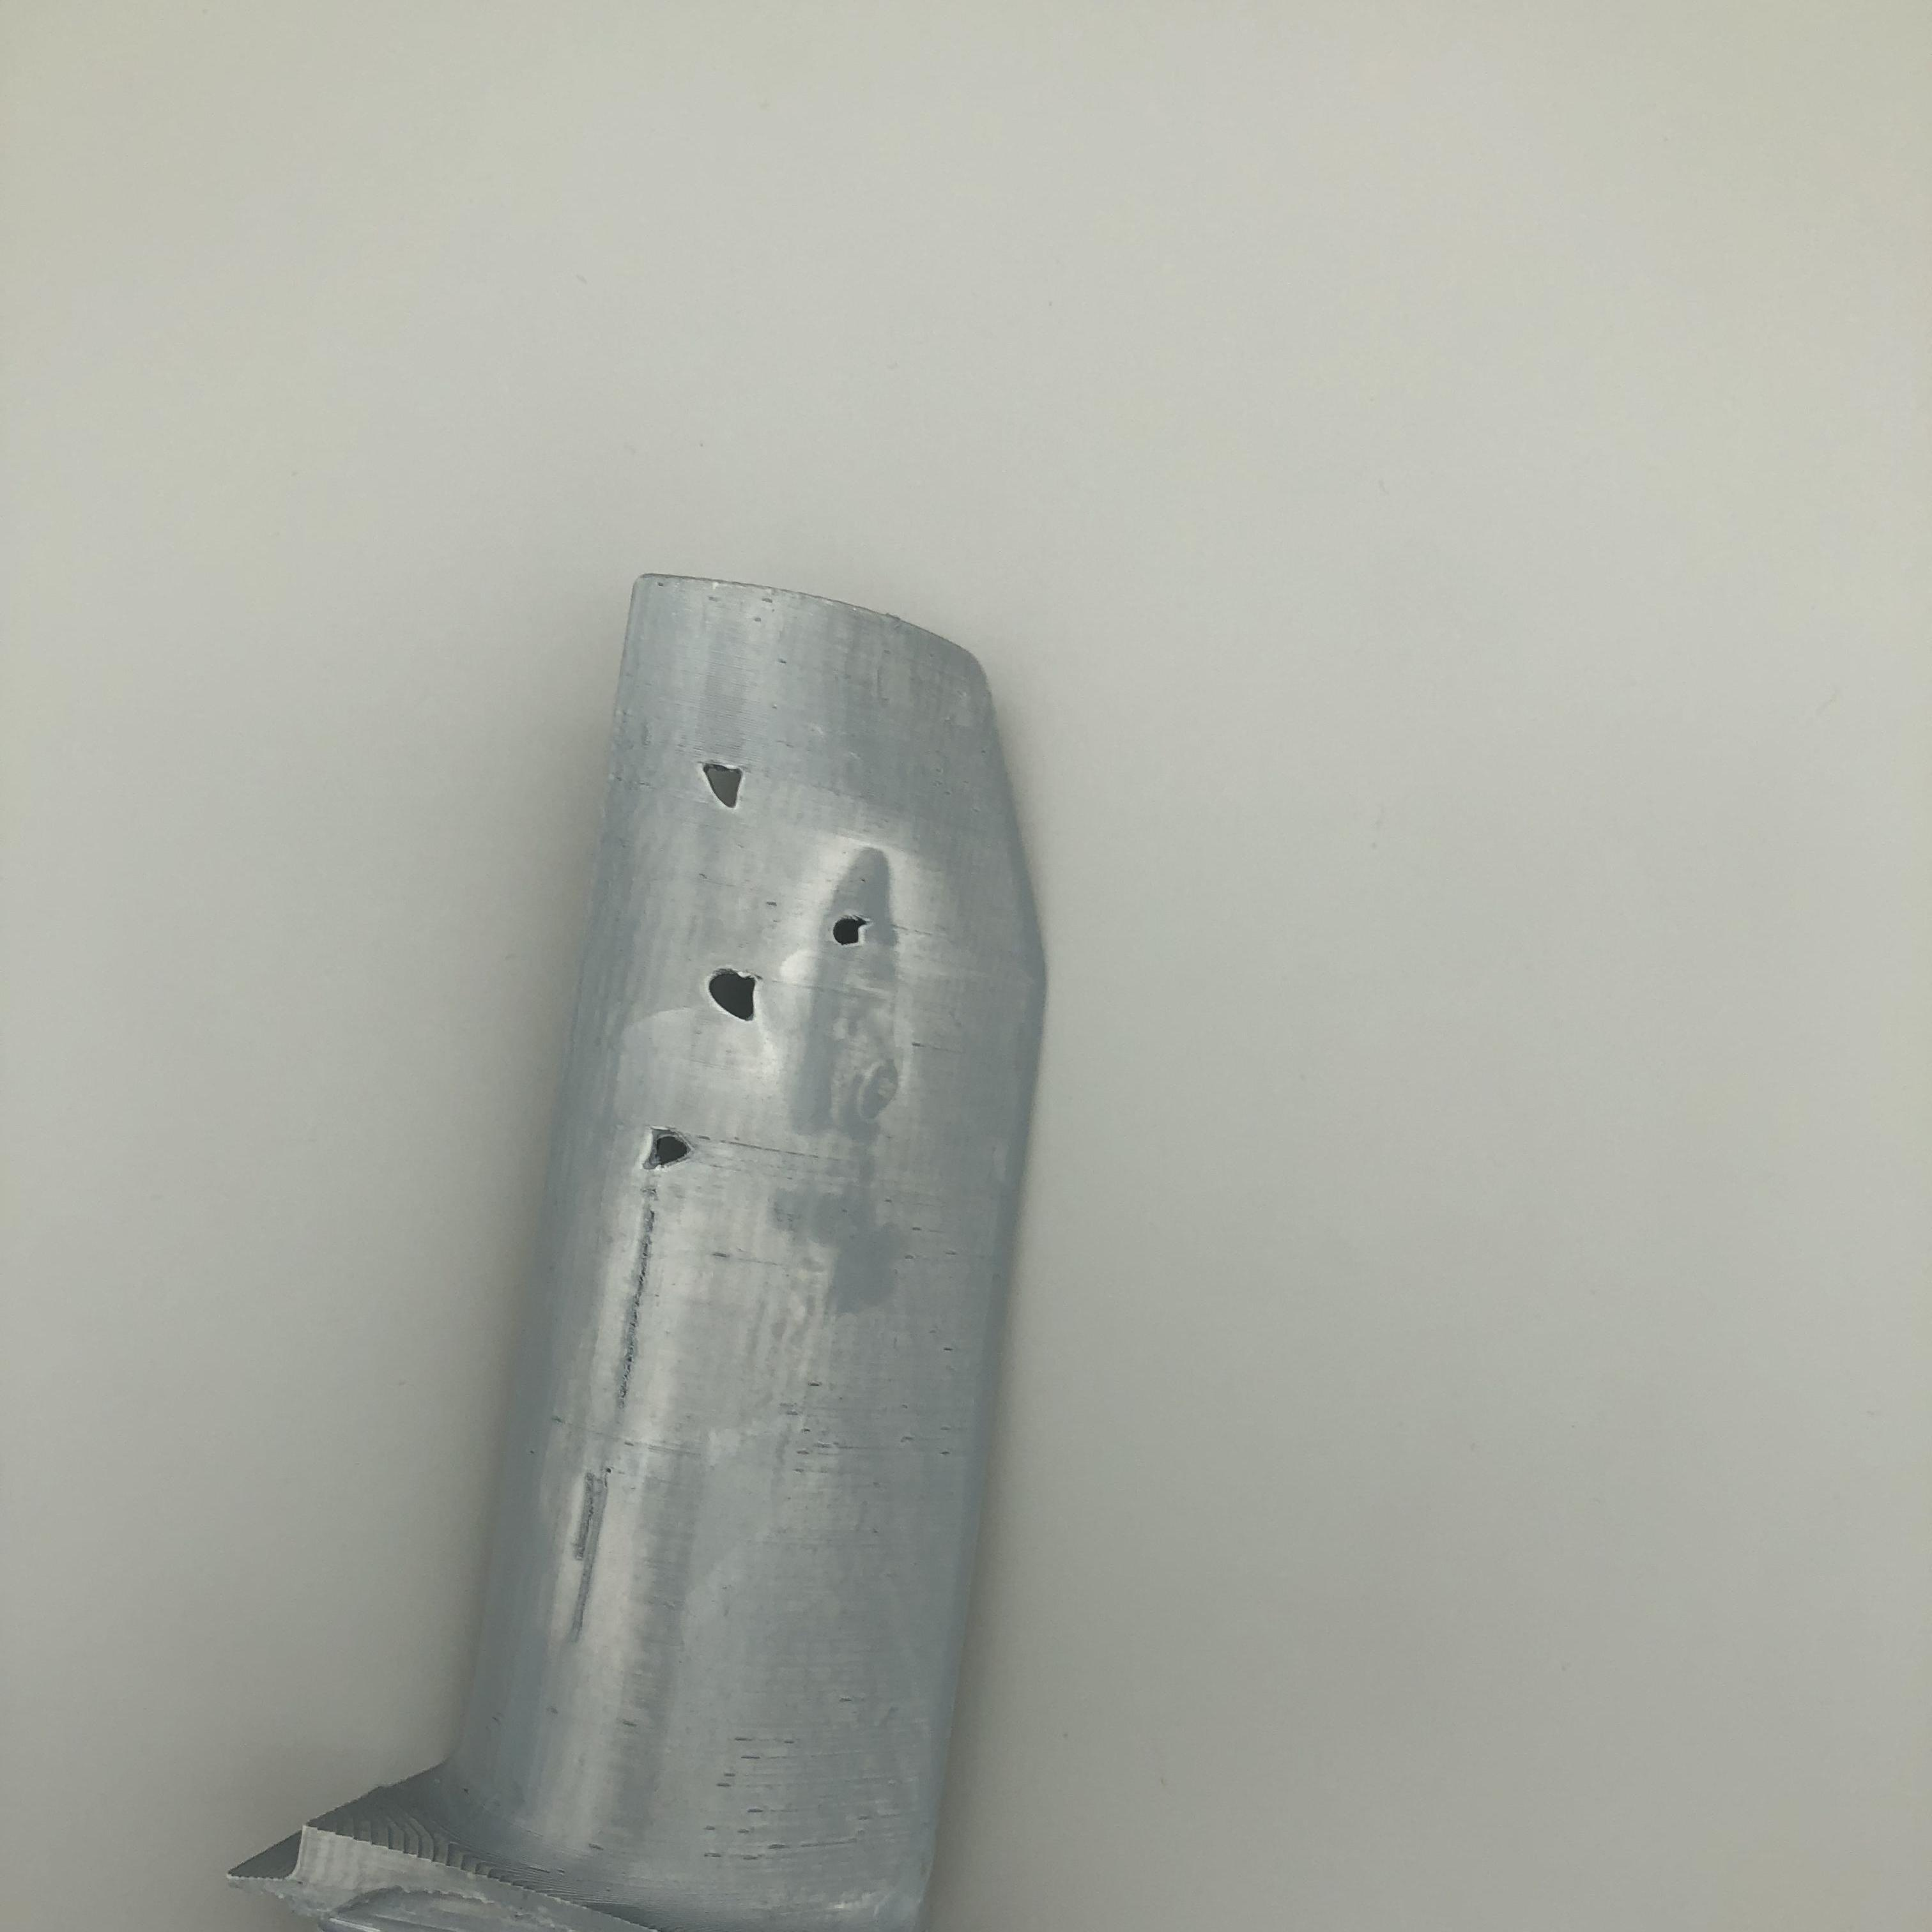breakdown: (640, 743, 870, 1189)
